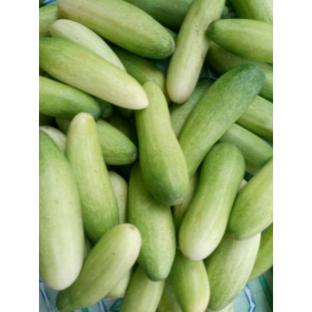Cucumber: (179, 64, 264, 176), (40, 38, 148, 109), (179, 143, 244, 260), (57, 224, 141, 311), (39, 131, 83, 290), (66, 114, 118, 242), (136, 82, 189, 204), (167, 0, 224, 103), (128, 164, 175, 280), (206, 233, 260, 311), (206, 42, 272, 101), (50, 20, 125, 70), (228, 159, 272, 239), (112, 46, 169, 101), (209, 19, 272, 62), (220, 124, 272, 174), (39, 77, 100, 119), (170, 251, 210, 311), (170, 78, 211, 136), (120, 266, 164, 311), (97, 119, 137, 165), (174, 172, 199, 237), (237, 97, 272, 141), (249, 225, 272, 281), (107, 112, 137, 144), (109, 171, 127, 223), (158, 279, 182, 311), (106, 269, 132, 298), (40, 126, 66, 153), (39, 4, 60, 36), (110, 163, 134, 180), (97, 98, 113, 118), (56, 118, 70, 134), (117, 107, 134, 118), (39, 114, 54, 125), (84, 237, 91, 260), (166, 28, 177, 41), (218, 303, 233, 311), (221, 5, 229, 18), (239, 180, 247, 191), (39, 68, 45, 76)
